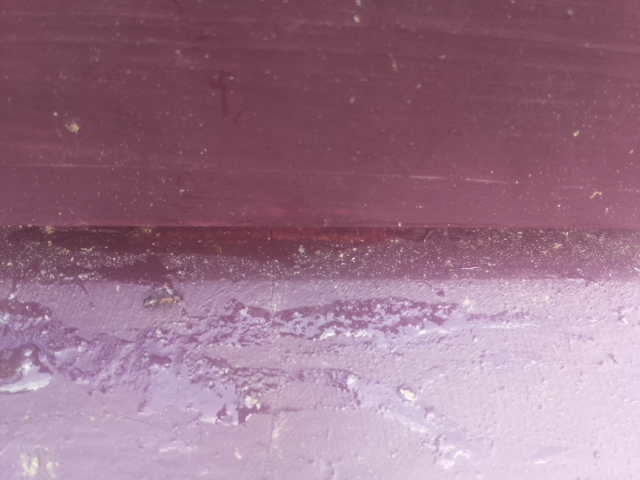ant: (138, 286, 188, 311)
